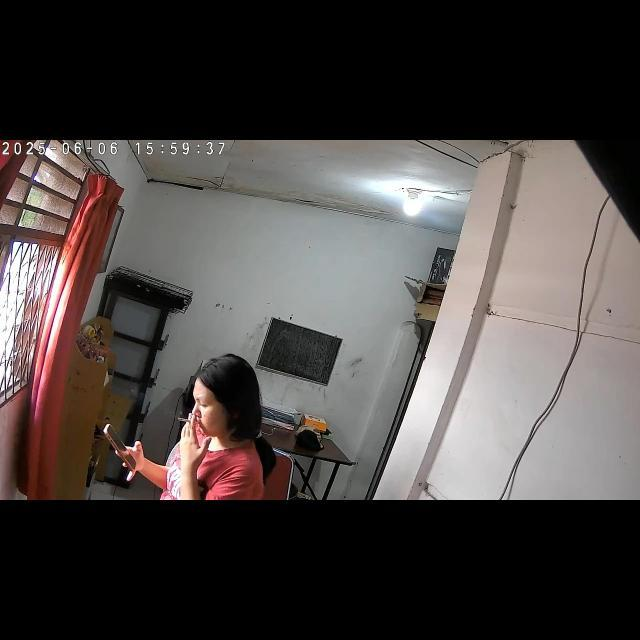rokok: (175, 415, 201, 425)
